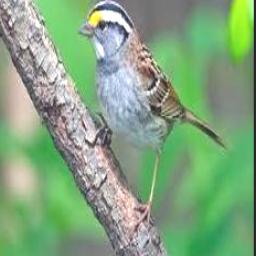Sparrow: (79, 0, 228, 231)
